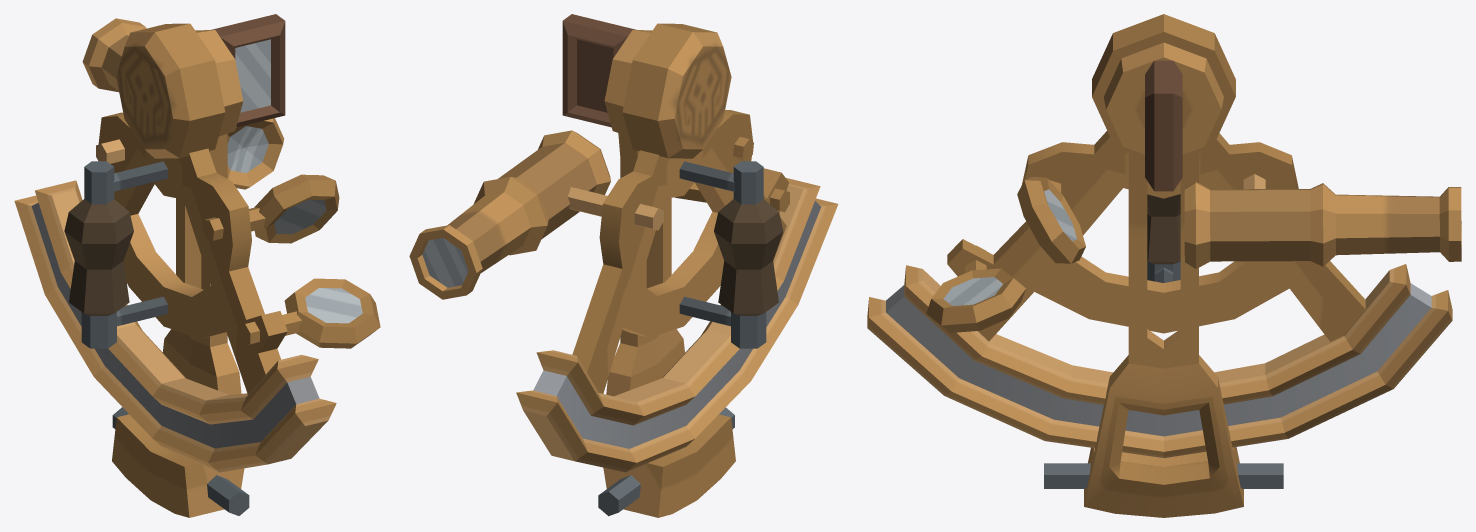
Rendered from SM_Prop_Sextant_01.fbx.
The picture shows the model from 3 angles, left to right: view 1: azimuth 30°, elevation 25°; view 2: azimuth 150°, elevation 25°; view 3: azimuth 270°, elevation 25°; orthographic projection. The views are drawn at different scales.
Parts seen in each view (by area): view 1: SM_Prop_Sextant_01; view 2: SM_Prop_Sextant_01; view 3: SM_Prop_Sextant_01.
Part boxes in pixels (x1=…): SM_Prop_Sextant_01: x1=14, y1=14, x2=380, y2=517; SM_Prop_Sextant_01: x1=409, y1=14, x2=838, y2=517; SM_Prop_Sextant_01: x1=867, y1=14, x2=1461, y2=517.
Size of the model in its own units: 29.88 by 58.81 by 65.77.
